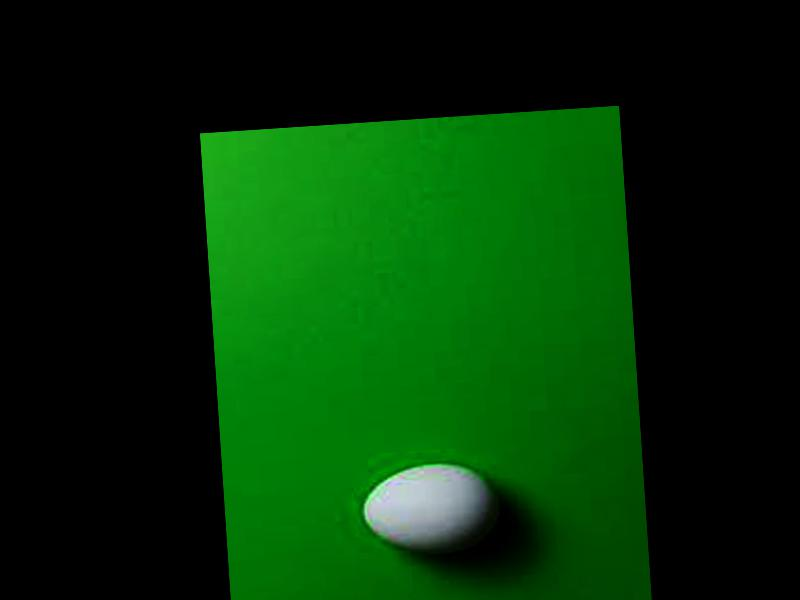Eggs: (359, 461, 502, 558)
